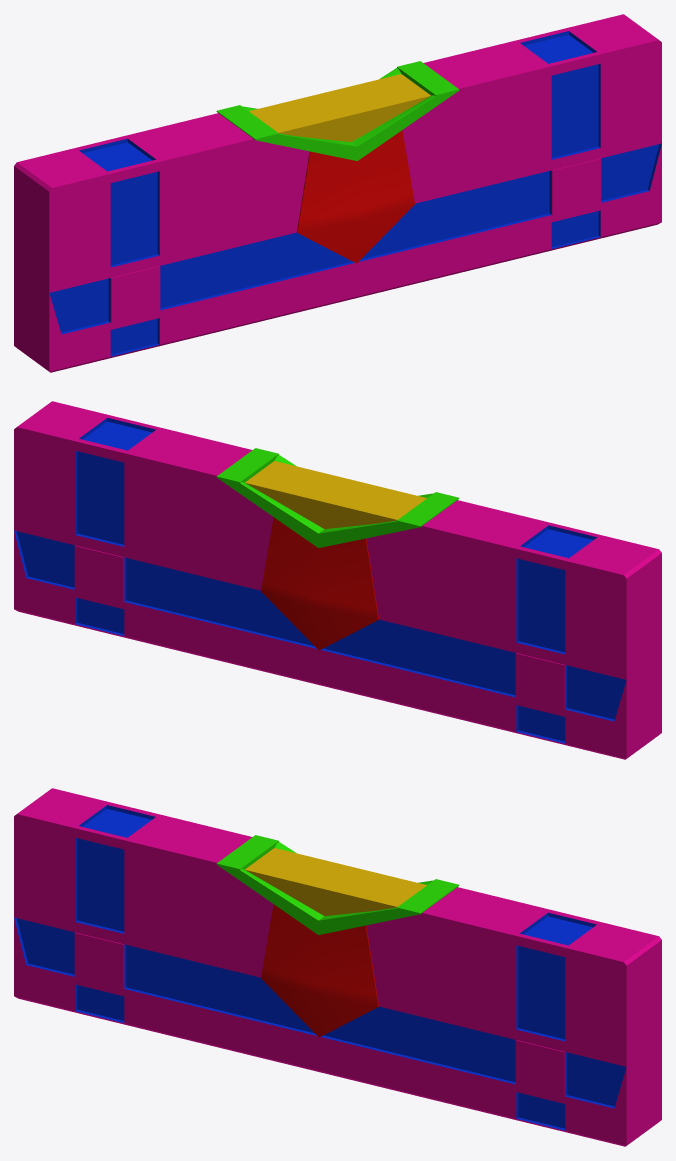
Rendered from Gate_VC.fbx.
3 views of the same model, one above another, from view 1: azimuth 30°, elevation 25°; view 2: azimuth 150°, elevation 25°; view 3: azimuth 330°, elevation 25° (orthographic).
Parts seen in each view (by area): view 1: Gate; view 2: Gate; view 3: Gate.
Boxes of the visible parts, left/top/right/bottom form: Gate: left=14, top=14, right=661, bottom=372; Gate: left=14, top=401, right=661, bottom=759; Gate: left=14, top=788, right=661, bottom=1146.
Bounding box in the file's own units: 8.45 × 2.46 × 1.03.
